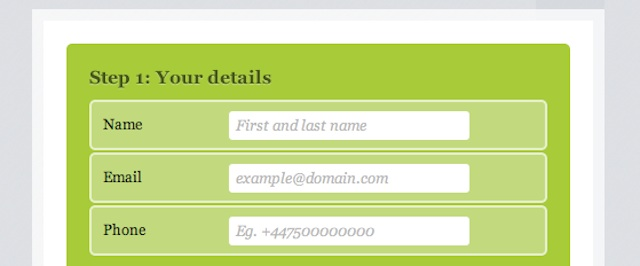_form_: (78, 1, 494, 266)
field: (226, 214, 472, 249), (225, 108, 471, 142), (226, 163, 472, 194)
